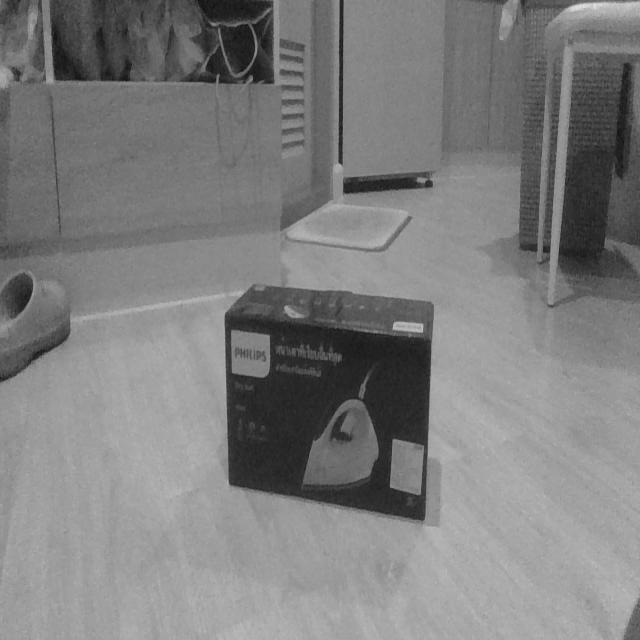IRON: (222, 279, 436, 526)
